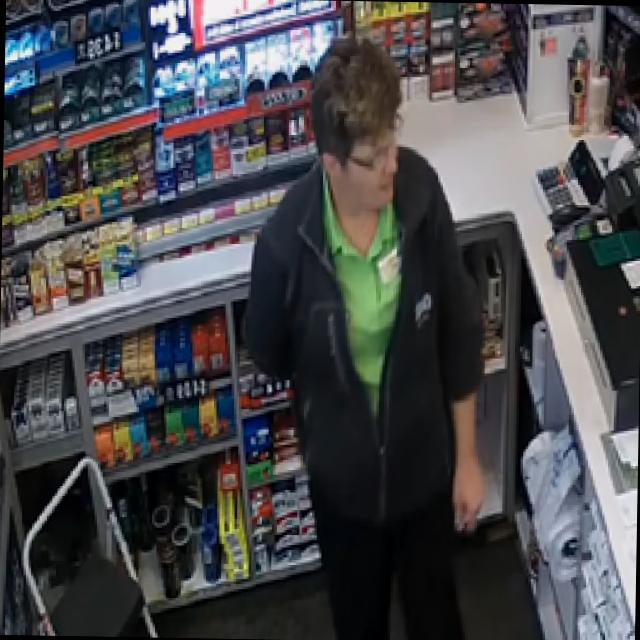person: (234, 31, 492, 640)
